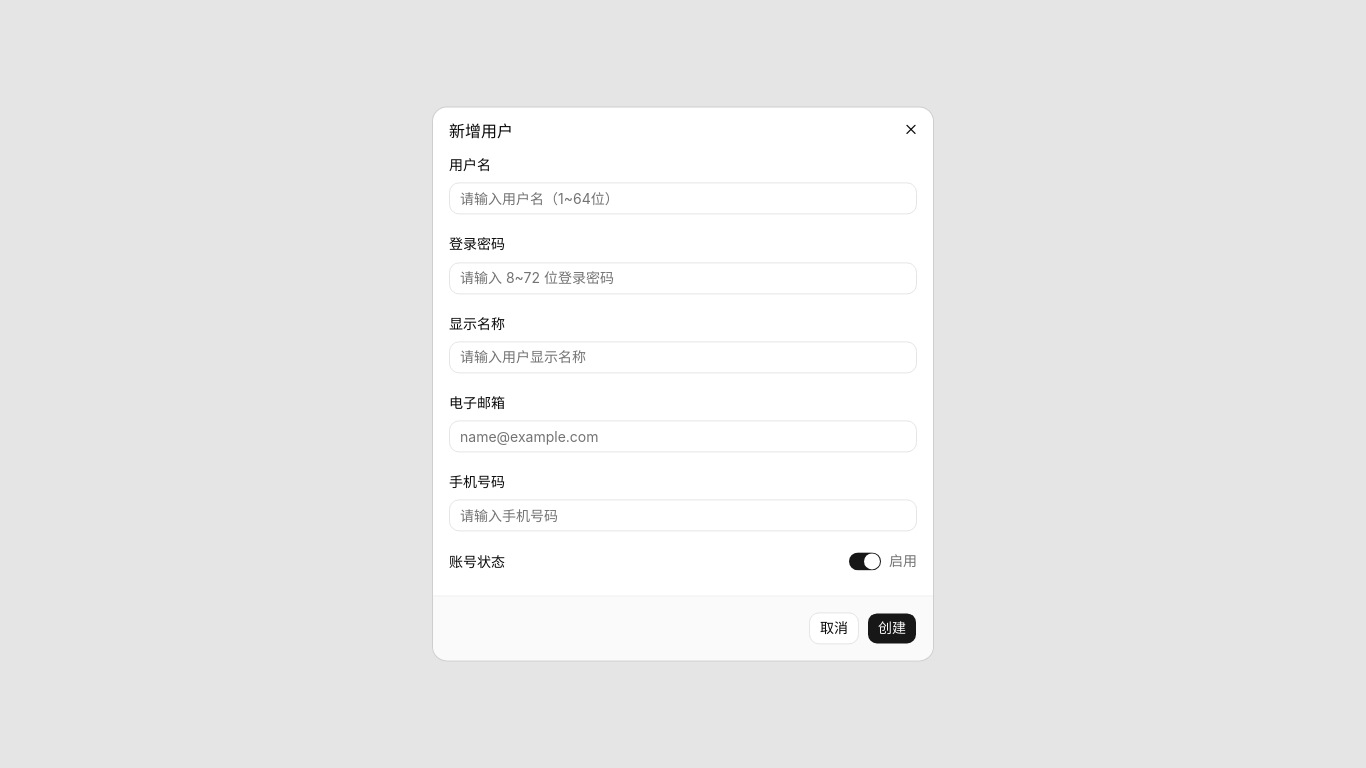
Test: UserFormModal (RBAC 用户 新增/编辑弹窗) › 表单校验拦截 - 用户名为空或格式不合法时不发起请求
Click the button "创建" at [892, 629], box [867,613,917,645]
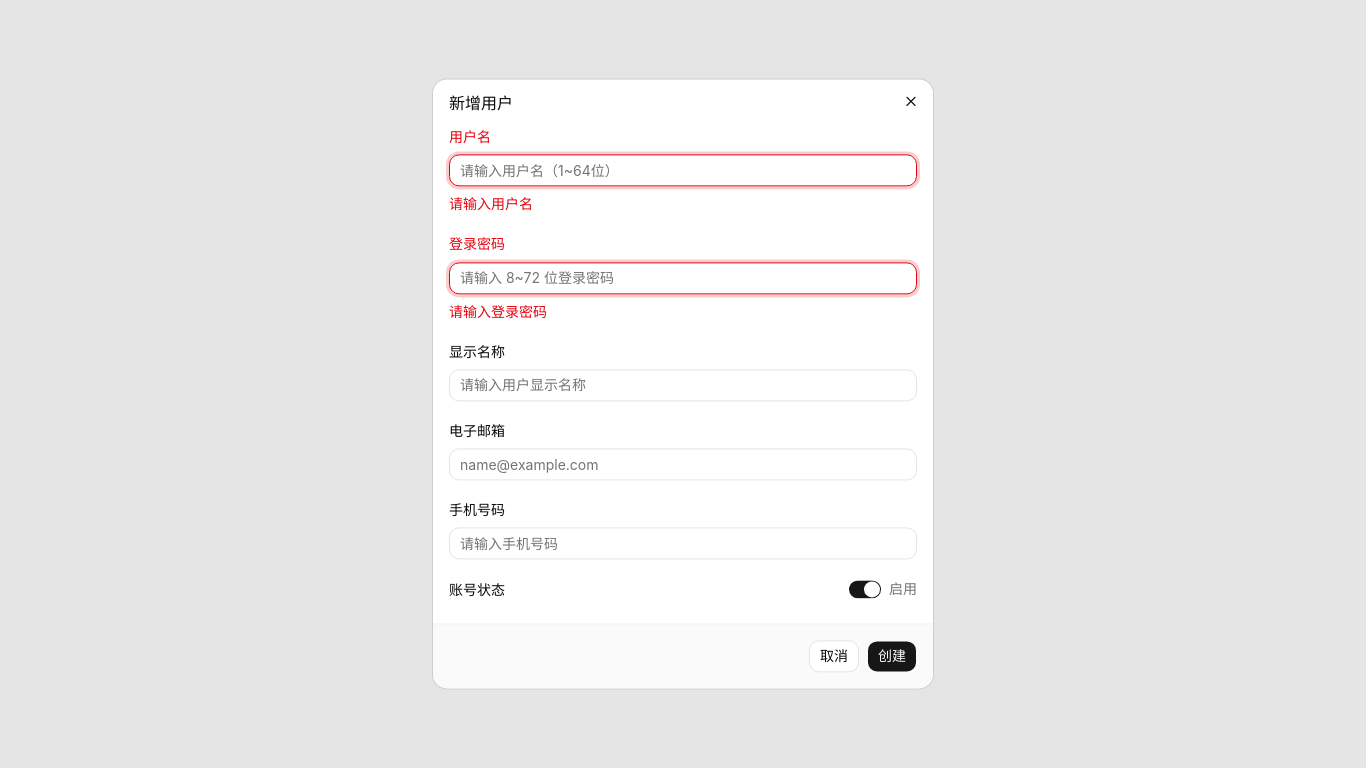
Now the text "请输入用户名" is shown, box [449,196,533,213]
Note: 格式非法：包含空格与特殊符号
Type "invalid username!" into the field labelled "用户名" at [683, 171], box [449,155,917,187]
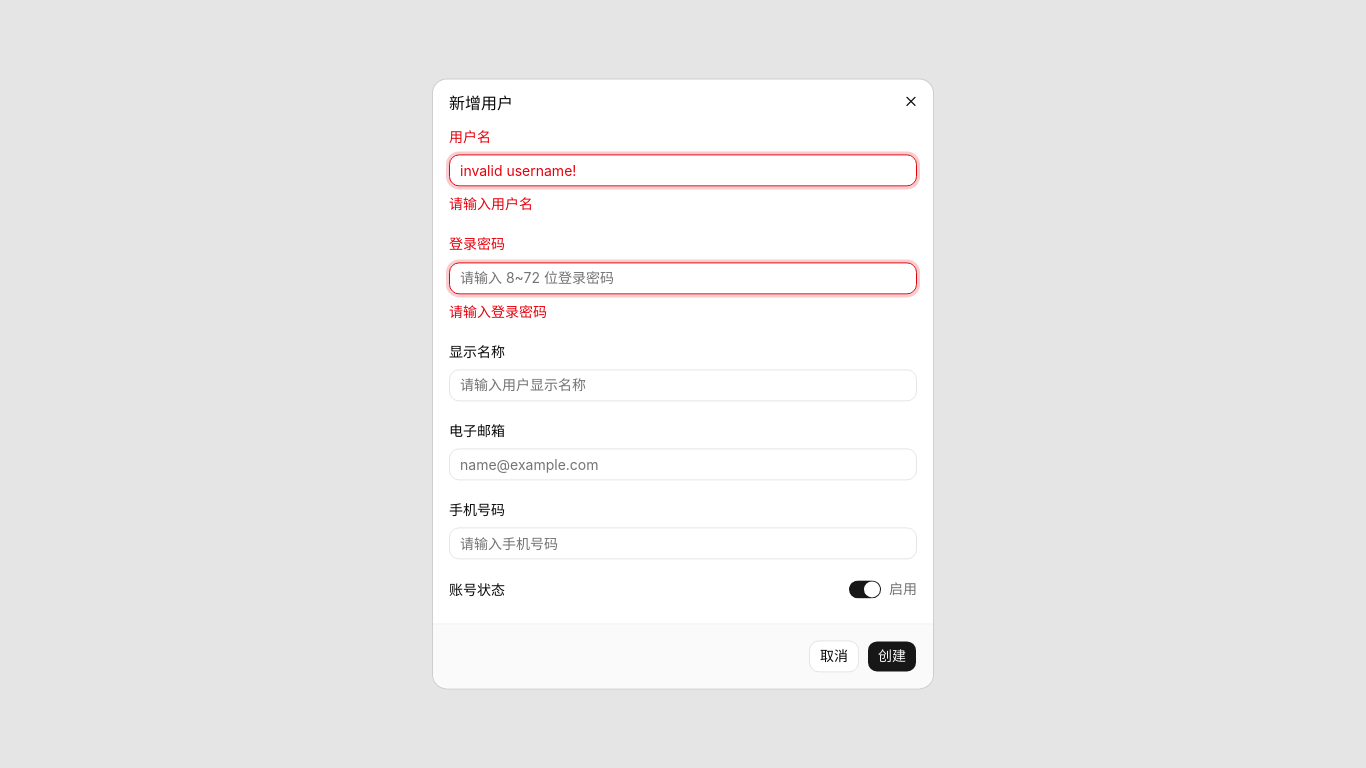
Click the button "创建" at [892, 657], box [867,641,917,673]
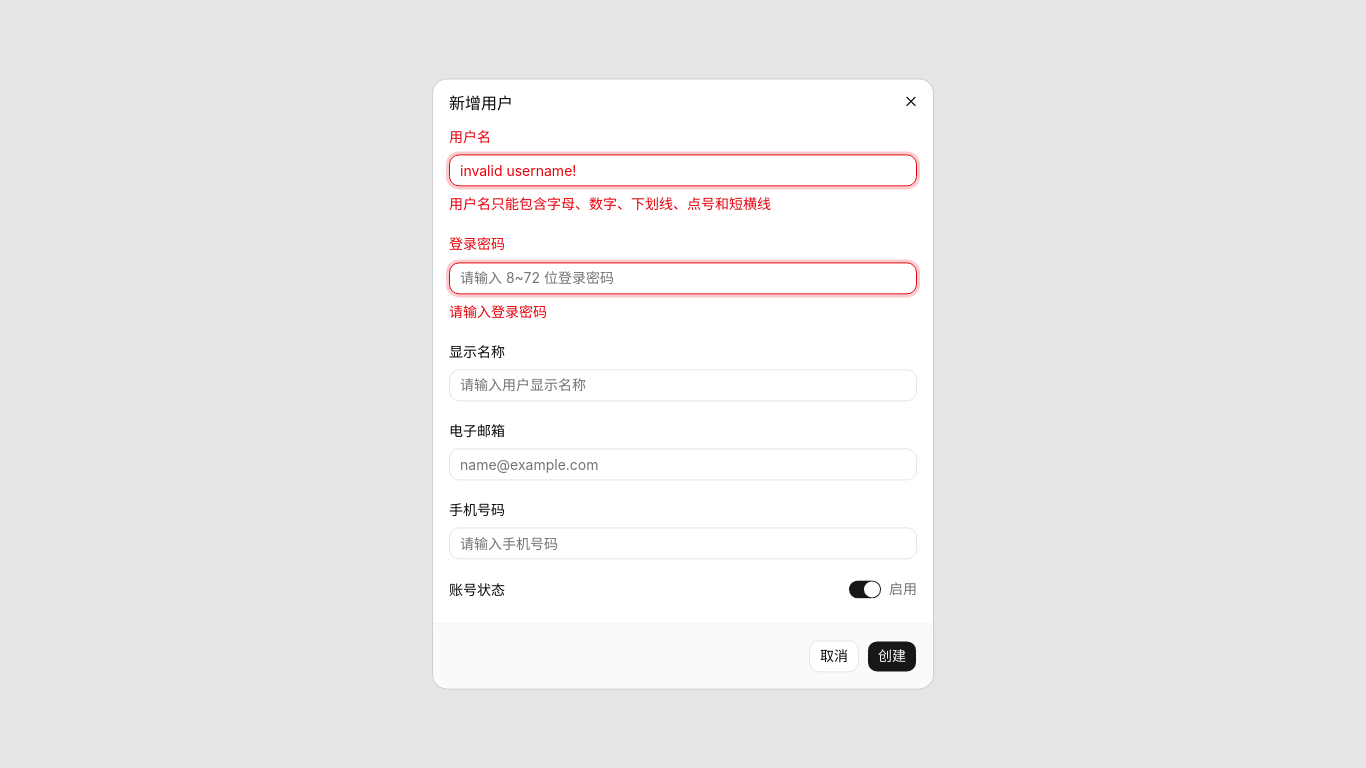
Now the text "用户名只能包含字母、数字、下划线、点号和短横线" is shown, box [449,196,771,213]
